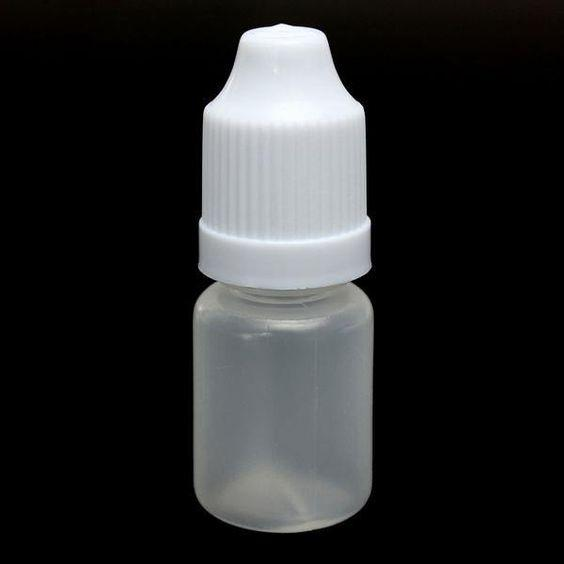HDPE: (198, 25, 372, 289)
PP: (193, 289, 375, 533)
